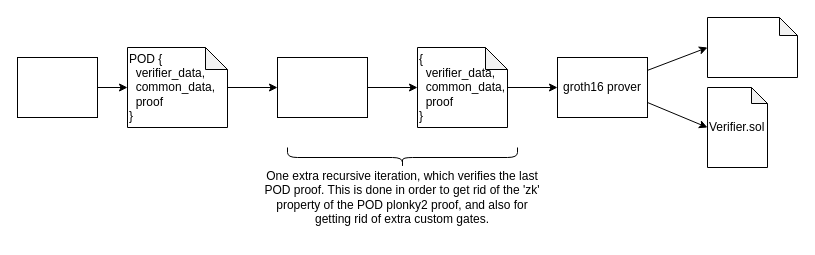
Image size: 815x255. Some labels were removed from this diagram. Here are the shapes that lost their labels. From the top down, the centre of each, then its label:
the point at 752,47: { proof, verifier_key }
the point at 57,87: pod2 prover
the point at 322,87: plonky2 prover
